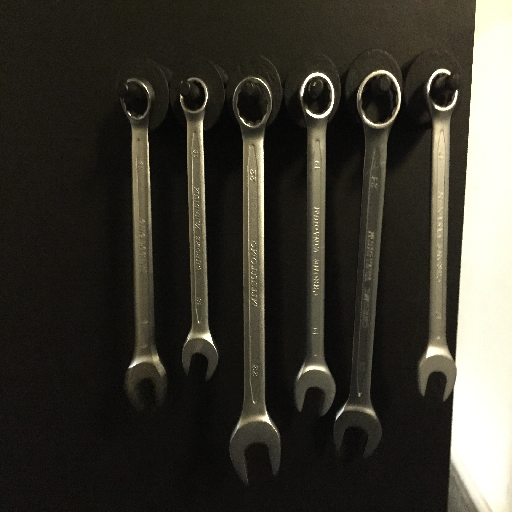bottom: (228, 418, 282, 486), (333, 400, 384, 463), (123, 356, 169, 414), (415, 345, 459, 402), (292, 362, 337, 417), (180, 332, 219, 383)
top: (354, 67, 402, 129), (230, 76, 275, 131), (423, 65, 462, 117), (298, 69, 335, 123), (120, 76, 157, 126), (178, 76, 211, 118)
